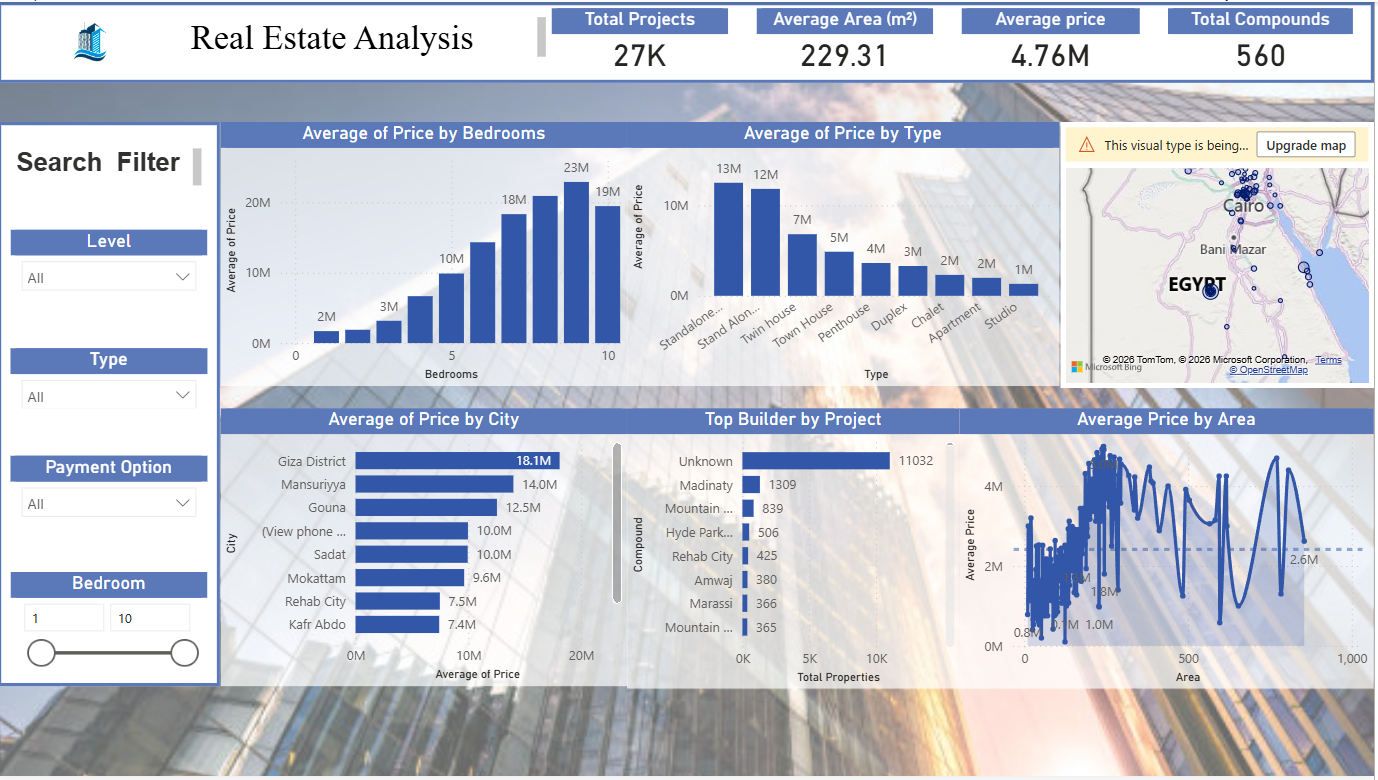

The dashboard page shown, as its layout file describes it:
{"tool":"powerbi","page":{"name":"Real Estate Dashboard","canvas":[1280,720],"ordinal":0},"visuals":[{"type":"shape","box":[0,111.7,206.6,524.8],"z":0},{"type":"shape","box":[0,0,1280,75.4],"z":1000},{"type":"card","title":"Total Projects","fields":{"Values":["DAX_Measures.Total Properties"]},"box":[515.1,5.4,164.1,64.6],"z":2000},{"type":"card","title":"Average price","fields":{"Values":["DAX_Measures.Average Price"]},"box":[896.1,5.4,165.4,64.6],"z":3000},{"type":"card","title":"Average Area (m²)","fields":{"Values":["DAX_Measures.Average Area"]},"box":[705.6,5.4,164.1,64.6],"z":4000},{"type":"slicer","title":"Level","fields":{"Values":["Dim_PropertyType.Level"]},"box":[11.2,212.2,182.9,62.8],"z":5000},{"type":"slicer","title":"Type","fields":{"Values":["Dim_PropertyType.Type"]},"box":[11.2,322.4,182.9,55.8],"z":6000},{"type":"slicer","title":"Bedroom","fields":{"Values":["Fact_RealEstate.Bedrooms"]},"box":[11.2,530.4,182.9,94.9],"z":7000},{"type":"clusteredBarChart","fields":{"Category":["Dim_Location.City"],"Y":["Avg(Fact_RealEstate.Price)"]},"box":[206.6,378.3,378.3,258.2],"z":8000},{"type":"clusteredBarChart","title":"Top Builder by Project","fields":{"Category":["Dim_Location.Compound"],"Y":["DAX_Measures.Total Properties"]},"box":[584.9,378.3,309.9,261],"z":9000},{"type":"map","title":"Avg Price per area","fields":{"Category":["Dim_Location.Full_Location"],"Size":["DAX_Measures.Avg Price per SQM"]},"box":[988.3,111.7,291.7,247.1],"z":10000},{"type":"clusteredColumnChart","fields":{"Category":["Fact_RealEstate.Bedrooms"],"Y":["Avg(Fact_RealEstate.Price)"]},"box":[206.6,111.7,378.3,245.7],"z":11000},{"type":"areaChart","fields":{"Category":["Fact_RealEstate.Area"],"Y":["DAX_Measures.Average Price"]},"box":[894.7,378.3,385.3,261],"z":12000},{"type":"clusteredColumnChart","fields":{"Category":["Dim_PropertyType.Type"],"Y":["Avg(Fact_RealEstate.Price)"]},"box":[584.9,111.7,402,245.7],"z":13000},{"type":"slicer","title":"Payment Option","fields":{"Values":["Dim_Payment.Payment_Option"]},"box":[11.2,421.5,182.9,61.4],"z":14000},{"type":"textbox","box":[10.8,9.4,504.3,55.1],"z":15000},{"type":"image","box":[10.8,9.4,150.6,55.1],"z":16000},{"type":"card","title":"Total Compounds","fields":{"Values":["DAX_Measures.TotalCompounds"]},"box":[1088,5.4,172.1,64.6],"z":17000},{"type":"textbox","box":[11.2,131.2,182.9,48.9],"z":18500}]}

Visuals, with their boxes in screenshot pixels (x1, y1, x2, y2), scaled from the page's 1280x720 canvas onto the 1378x780 screenshot:
shape: (0,121,222,690)
shape: (0,0,1377,82)
"Total Projects" card: (555,6,731,76)
"Average price" card: (965,6,1143,76)
"Average Area (m²)" card: (760,6,936,76)
"Level" slicer: (12,230,209,298)
"Type" slicer: (12,349,209,410)
"Bedroom" slicer: (12,575,209,677)
clusteredBarChart - Dim_Location.City x Avg(Fact_RealEstate.Price): (222,410,630,690)
"Top Builder by Project" clusteredBarChart: (630,410,963,693)
"Avg Price per area" map: (1064,121,1377,389)
clusteredColumnChart - Fact_RealEstate.Bedrooms x Avg(Fact_RealEstate.Price): (222,121,630,387)
areaChart - Fact_RealEstate.Area x DAX_Measures.Average Price: (963,410,1377,693)
clusteredColumnChart - Dim_PropertyType.Type x Avg(Fact_RealEstate.Price): (630,121,1062,387)
"Payment Option" slicer: (12,457,209,523)
textbox: (12,10,555,70)
image: (12,10,174,70)
"Total Compounds" card: (1171,6,1357,76)
textbox: (12,142,209,195)
